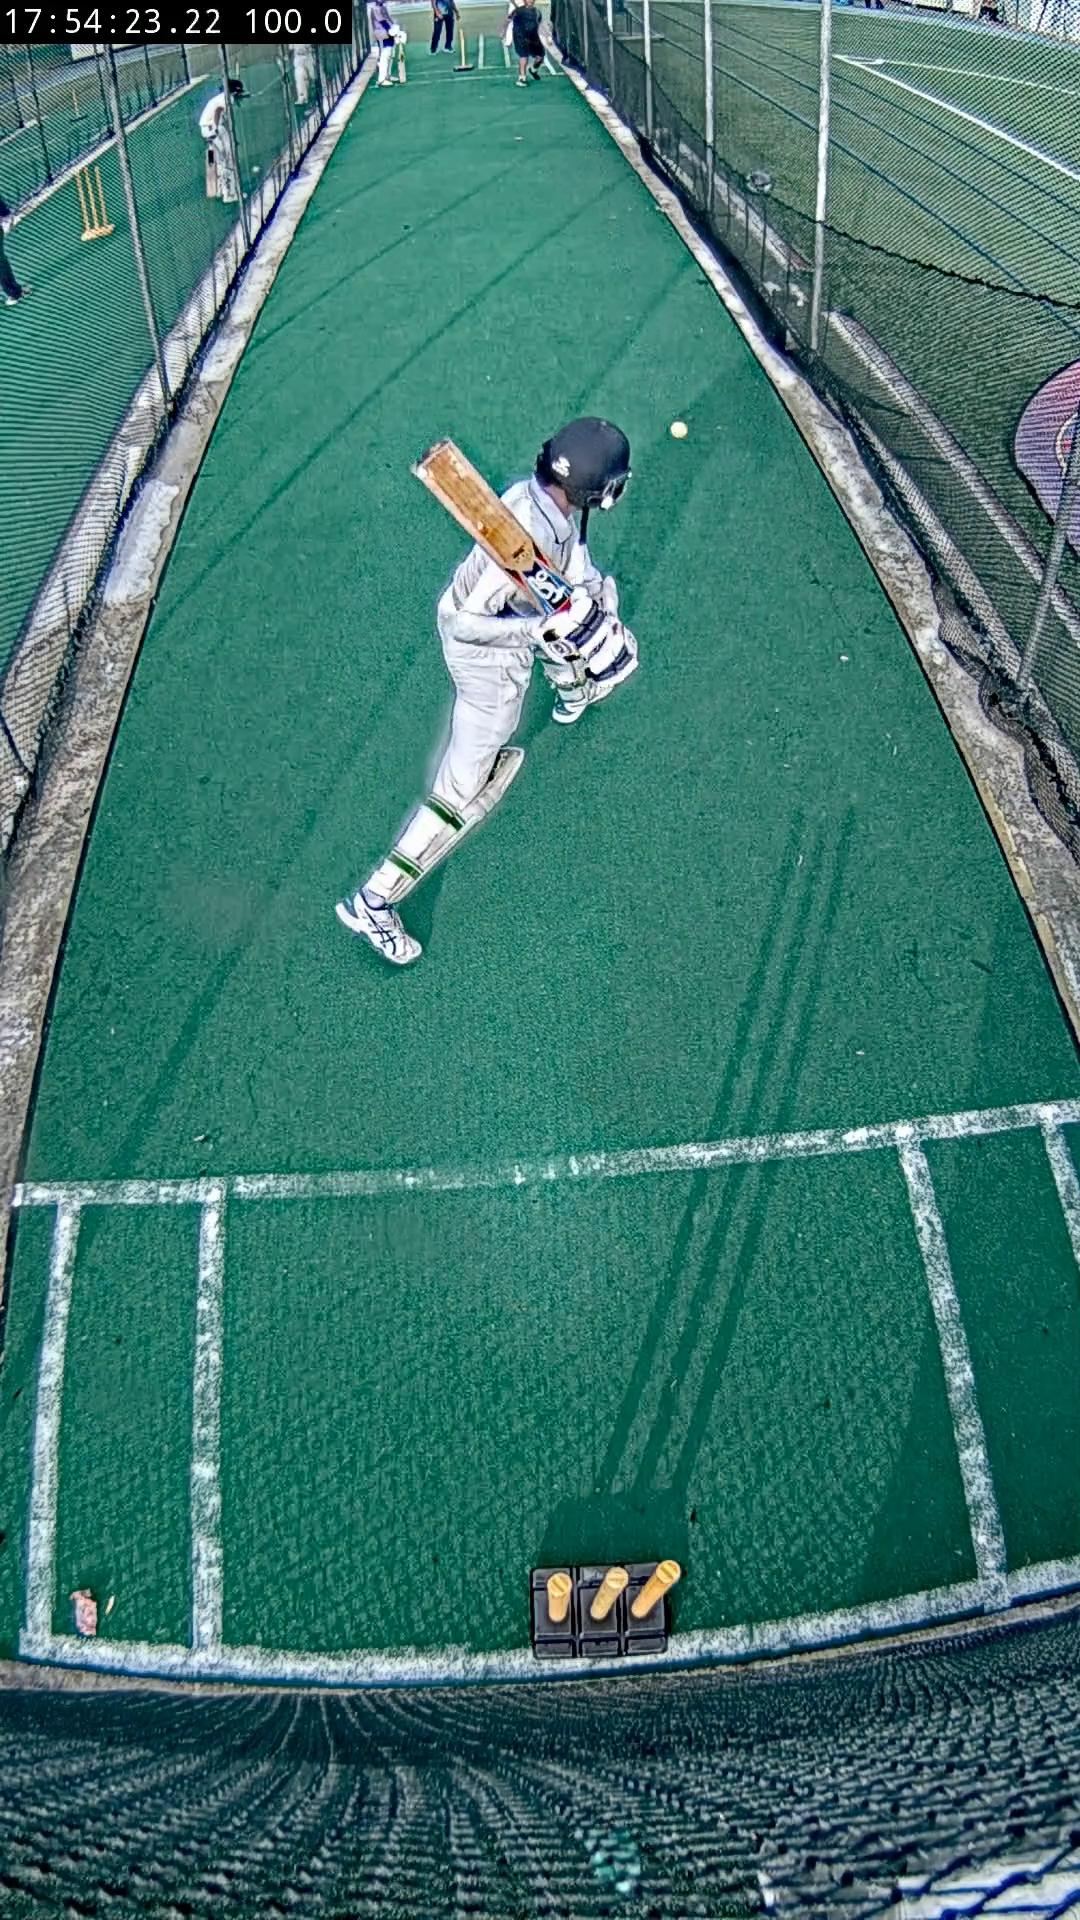ball: (667, 419, 690, 439)
bat: (413, 439, 574, 615)
gloves: (533, 596, 637, 694)
helmet: (537, 417, 630, 510)
pads: (390, 746, 525, 902)
stumps: (529, 1560, 683, 1662)
